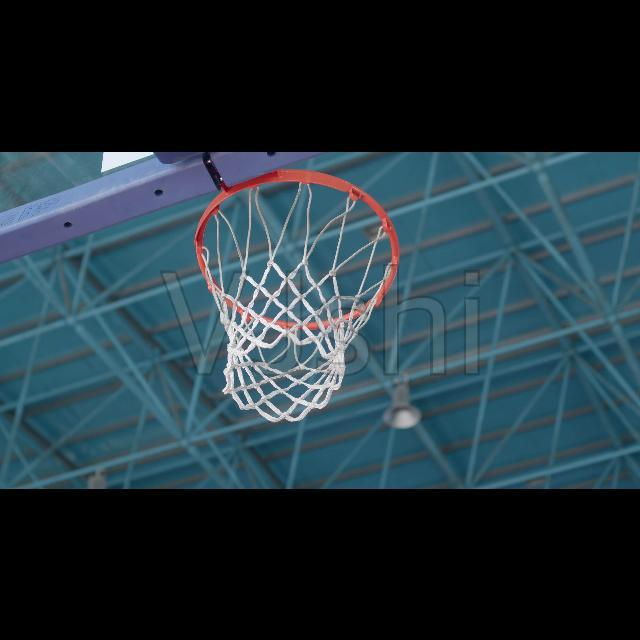rim: (196, 168, 400, 422)
